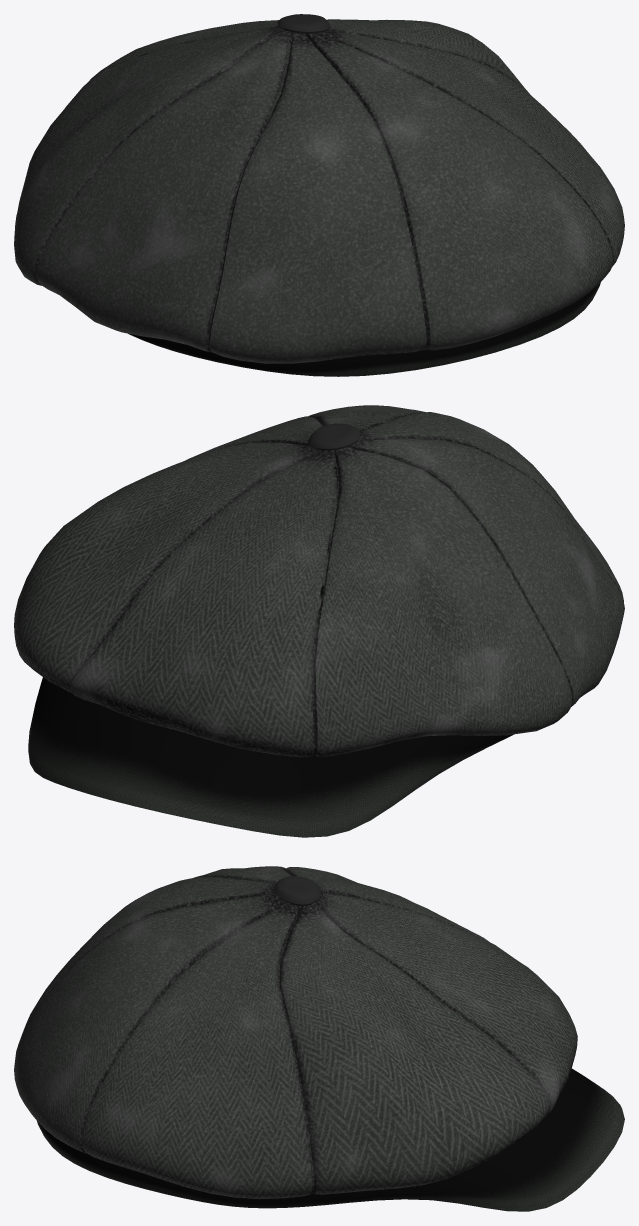
The model's file is flatCap.gltf.
3 renders of one model, top to bottom at view 1: azimuth 30°, elevation 25°; view 2: azimuth 150°, elevation 25°; view 3: azimuth 270°, elevation 25°, orthographic. The views are drawn at different scales.
Parts seen in each view (by area): view 1: flatCap; view 2: flatCap; view 3: flatCap.
Boxes of the visible parts, <box> form: flatCap: <box>14,14,624,376</box>; flatCap: <box>14,405,624,837</box>; flatCap: <box>14,866,624,1211</box>.
Size of the model in its own units: 1.51 by 0.7677 by 1.7.
Materials: 1 (1 with a texture image).
